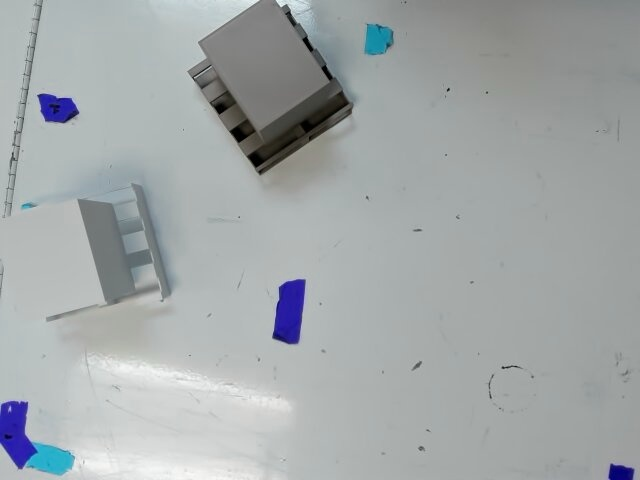grey pallet: (183, 0, 382, 177)
white pallet: (1, 169, 182, 331)
